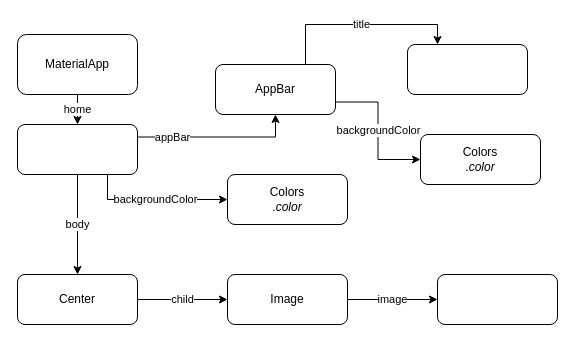
Some shapes in this 575 by 342 pixel diagram are drawn without their labels. Each missing label, with the centre of its shape:
"NetworkImage 'url'" goes at (497,299).
"Scaffold" goes at (77,149).
"Text" goes at (467,69).
